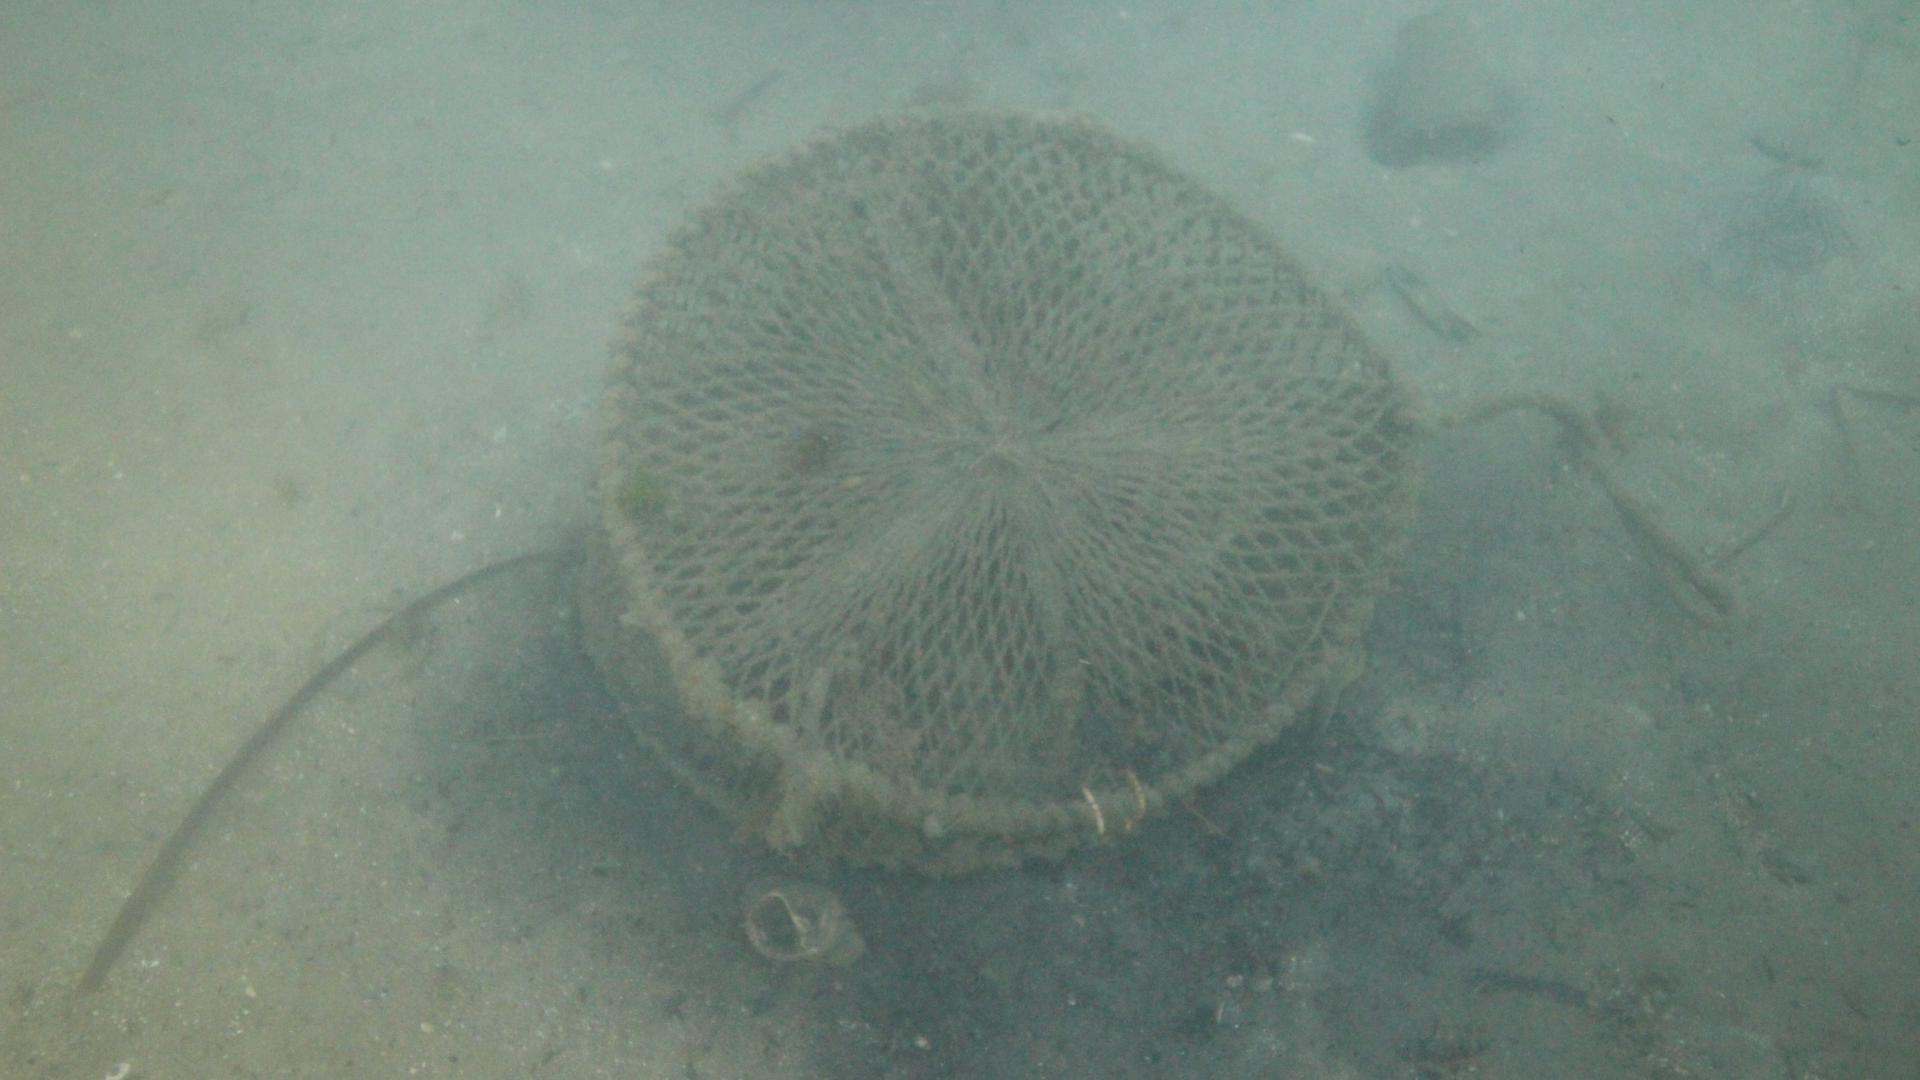circular fish trap: (574, 105, 1428, 880)
rope: (1428, 381, 1735, 620)
